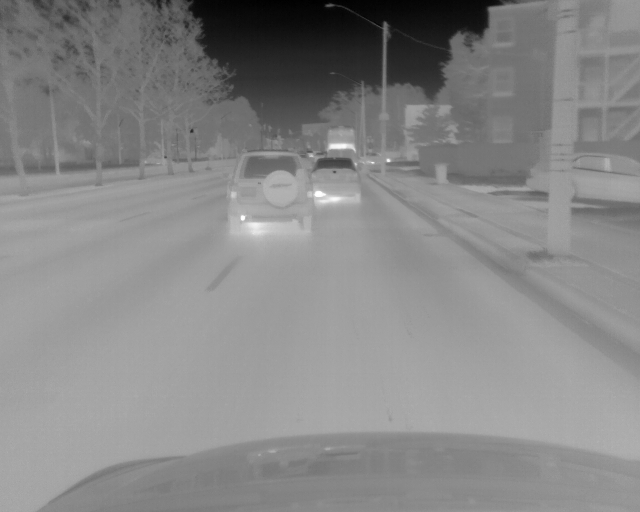car: (227, 150, 312, 235), (526, 154, 640, 203), (309, 158, 364, 205), (322, 124, 359, 161), (140, 153, 165, 166), (366, 150, 383, 164)
